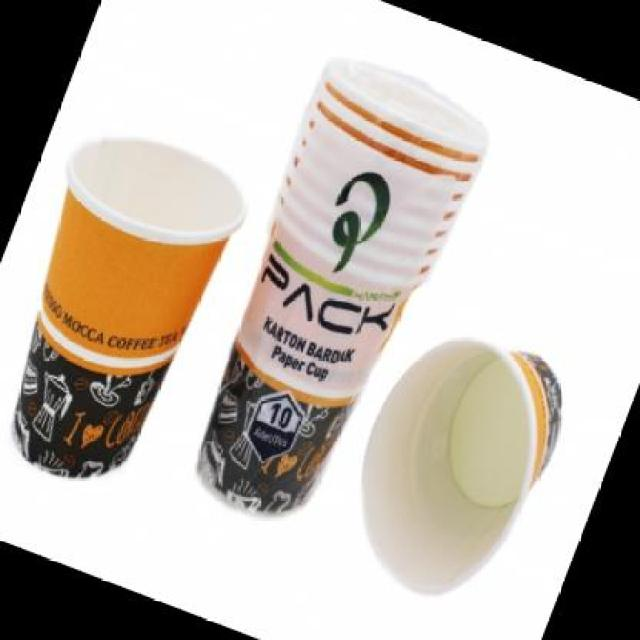non-biodegradable: (146, 42, 497, 573), (0, 106, 255, 506), (315, 309, 590, 640)
